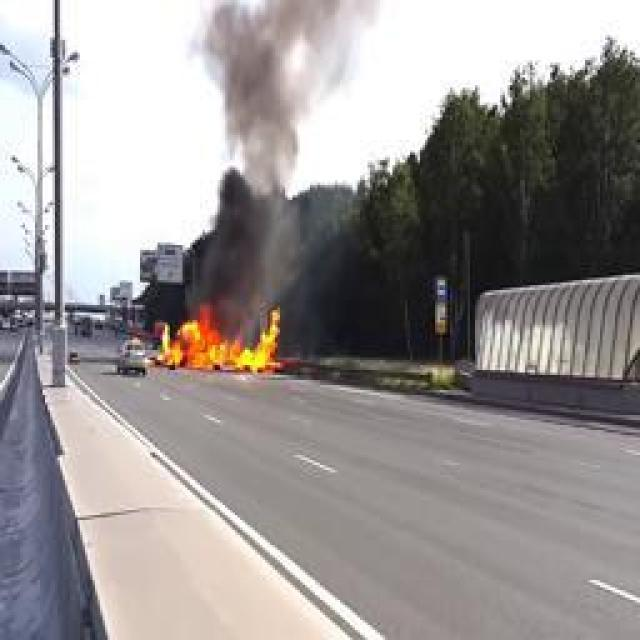Fire: (158, 306, 286, 374)
